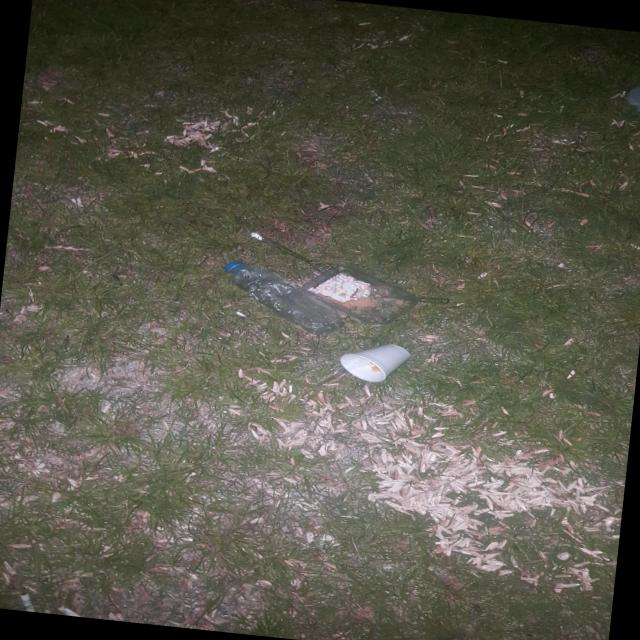less trash: (223, 261, 447, 334), (340, 343, 410, 382)
